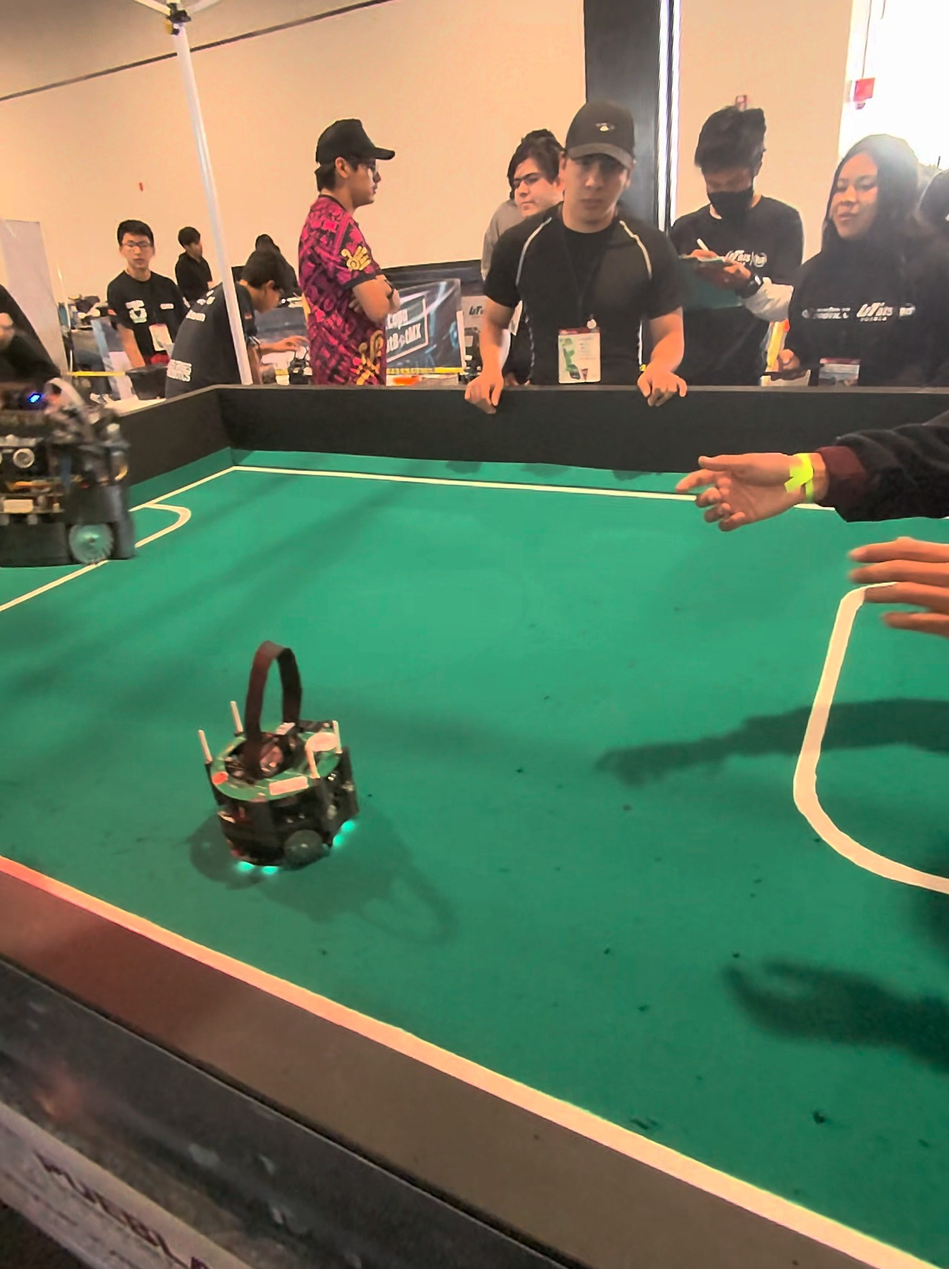Robot: (193, 623, 384, 899), (0, 437, 67, 576)
